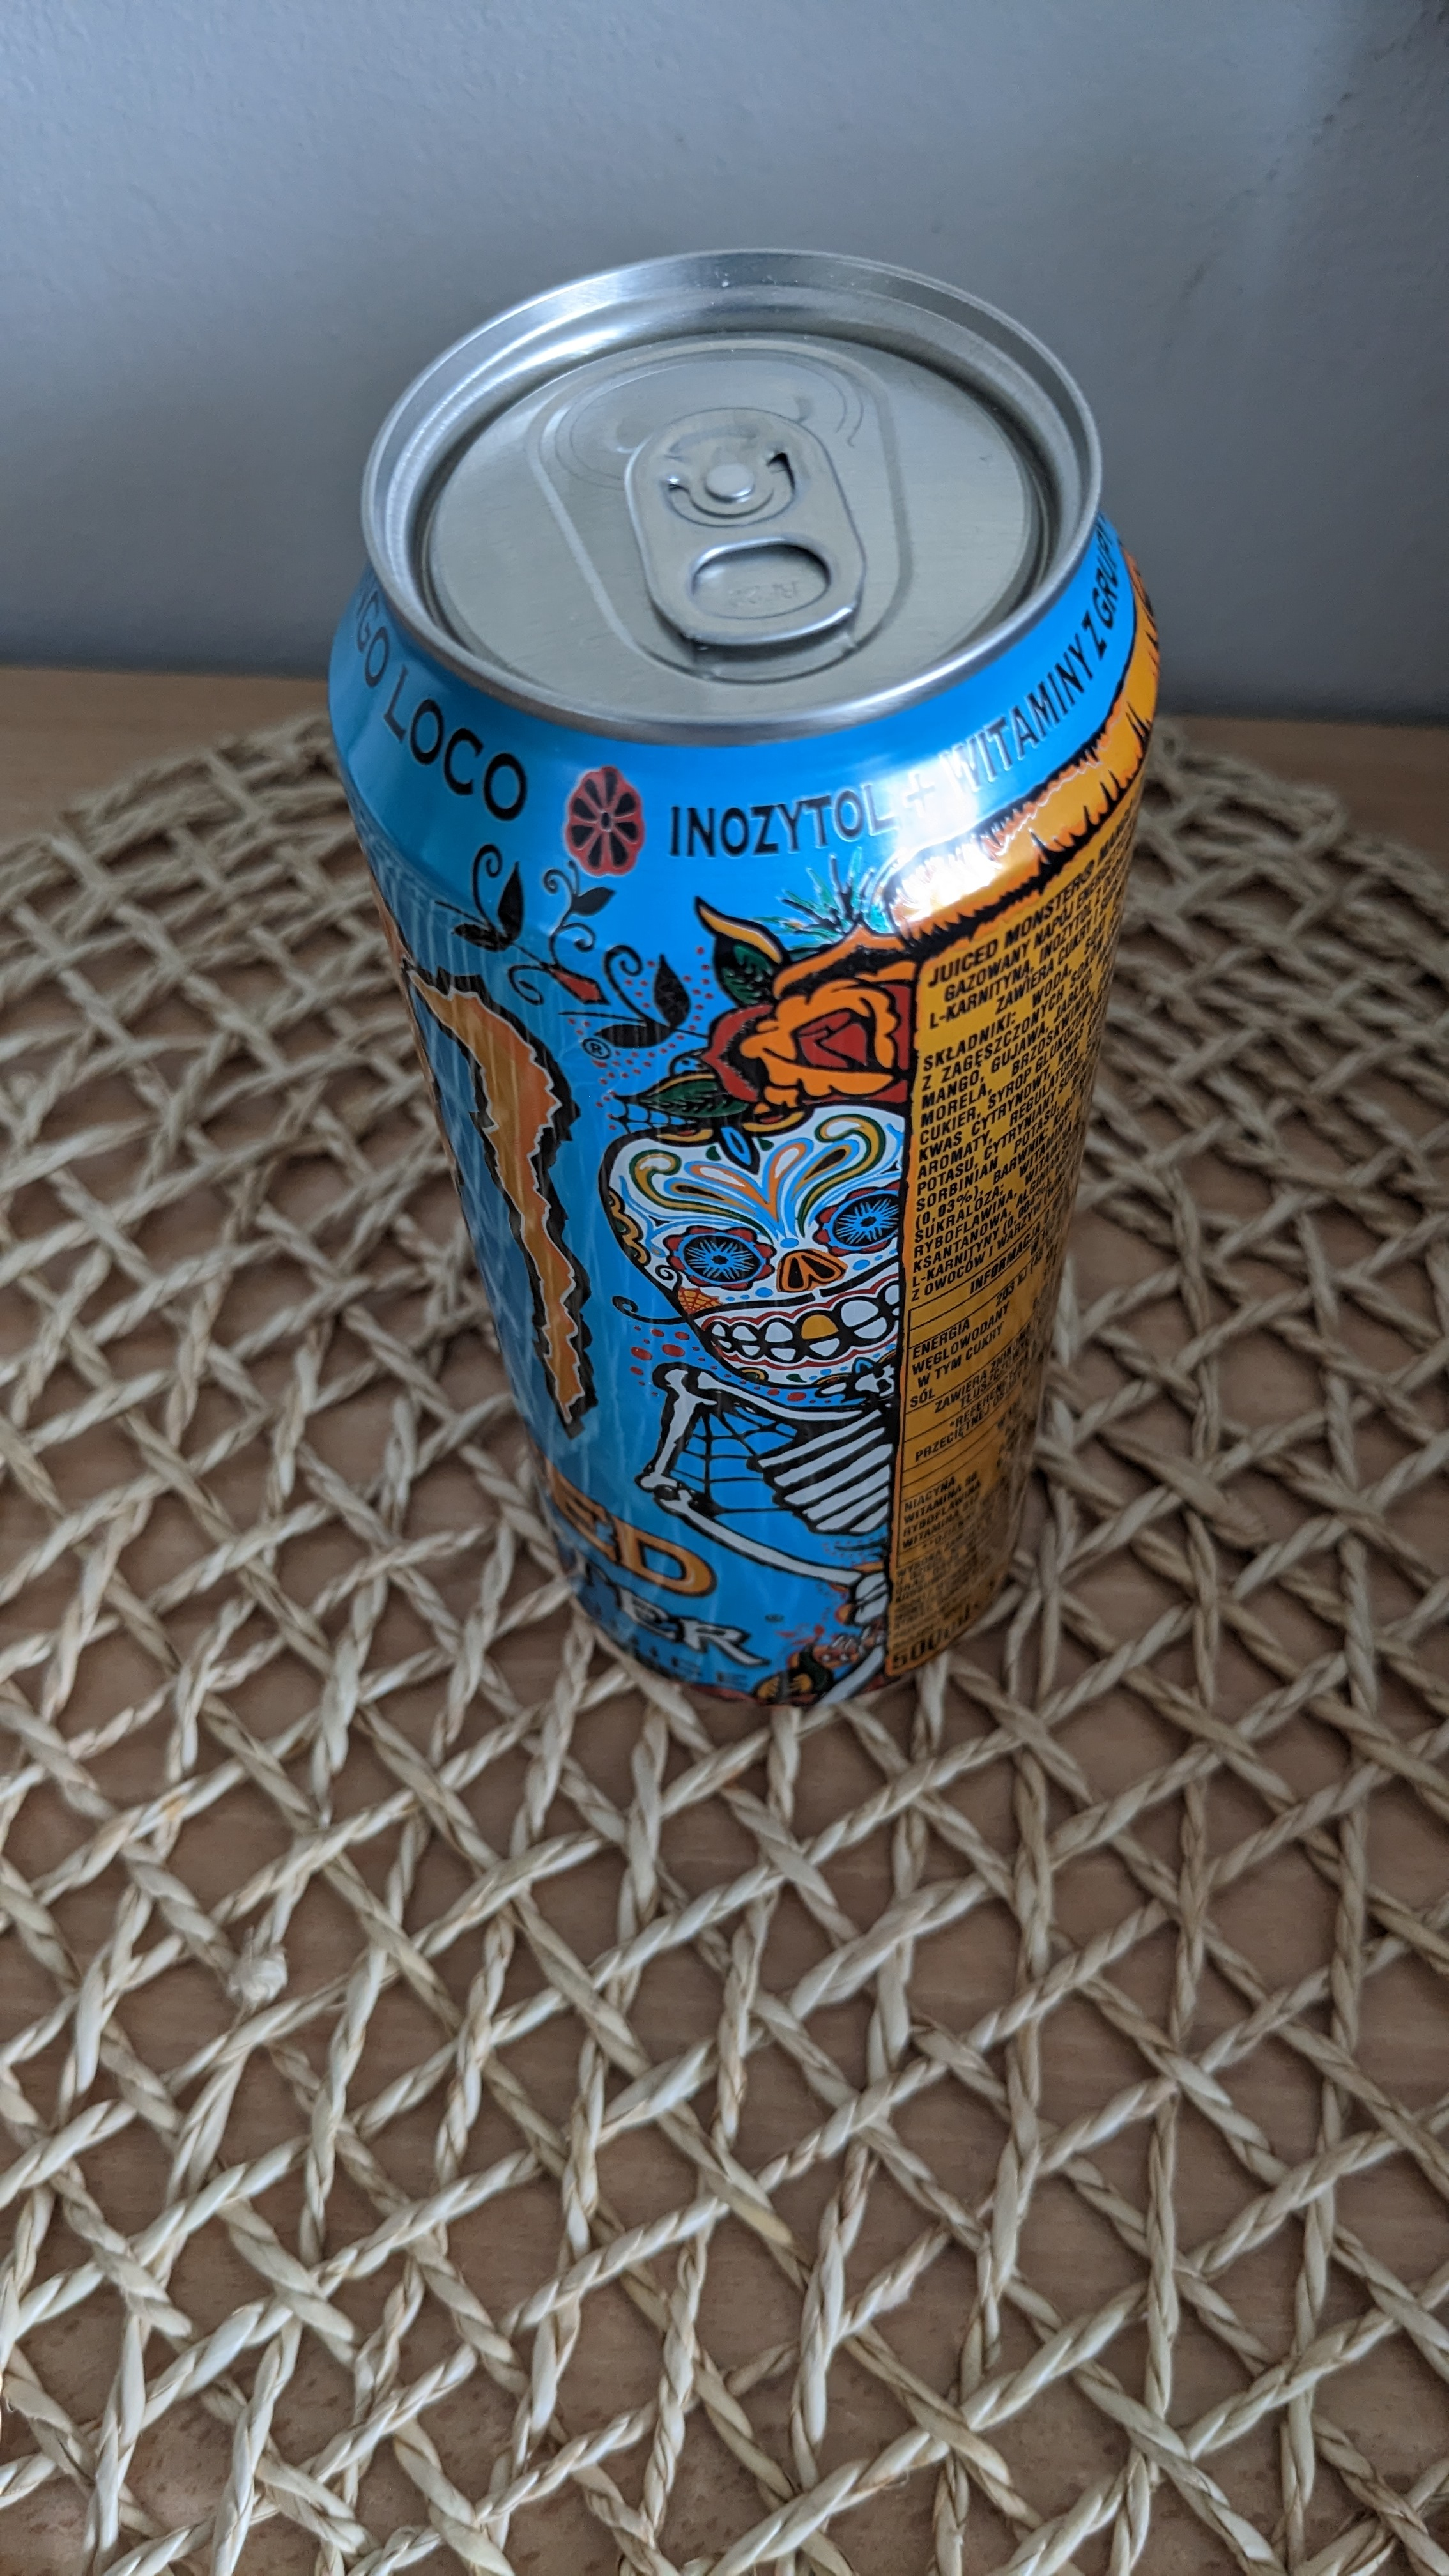monster: (324, 237, 1166, 1737)
